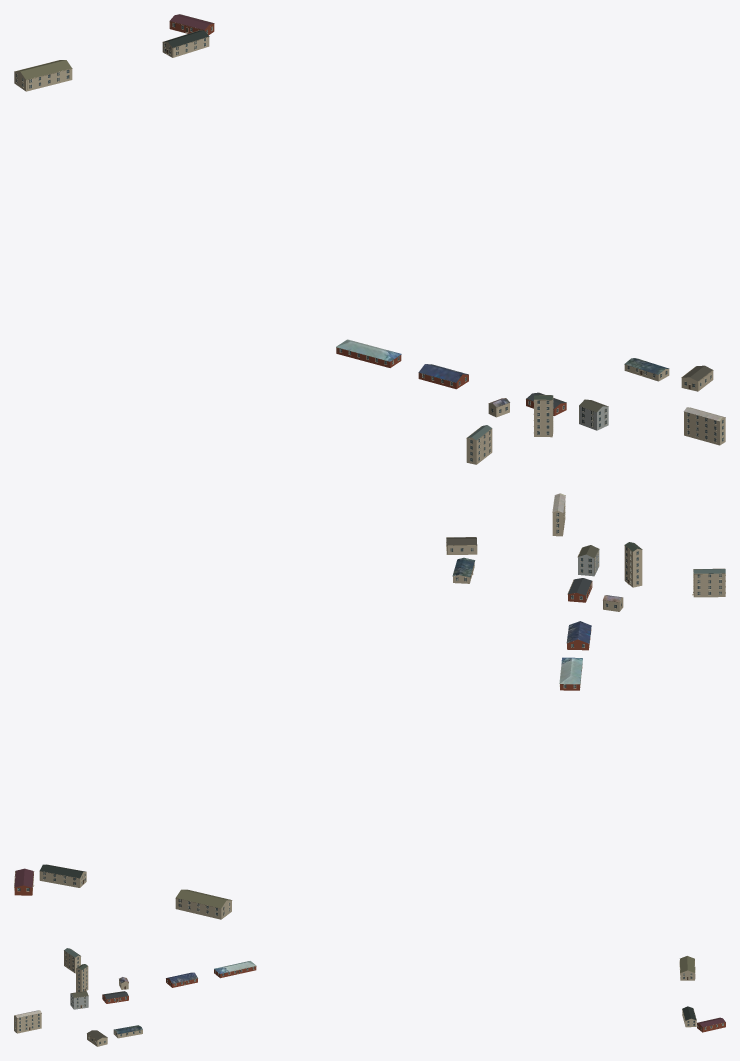
3 renders of one model, top to bottom at view 1: azimuth 30°, elevation 25°; view 2: azimuth 150°, elevation 25°; view 3: azimuth 270°, elevation 25°, orthographic. The views are drawn at different scales.
Visible parts, largest first — view 1: -1_12_608383942_0, -1_12_608383943_1, -1_12_608383945_3; view 2: -1_12_608383942_0, -1_12_608383943_1, -1_12_608383945_3; view 3: -1_12_608383942_0, -1_12_608383943_1, -1_12_608383945_3, -1_12_608383944_2.
Boxes of the visible parts, x1,y1,x2,y2 form: -1_12_608383942_0: (14,14,725,464); -1_12_608383943_1: (336,339,725,421); -1_12_608383945_3: (169,21,566,415); -1_12_608383942_0: (14,500,725,919); -1_12_608383943_1: (452,493,622,684); -1_12_608383945_3: (14,581,592,895); -1_12_608383942_0: (14,948,725,1046); -1_12_608383943_1: (14,961,256,1034); -1_12_608383945_3: (102,966,725,1032); -1_12_608383944_2: (70,993,88,1009).
Size of the model in its own units: 141 by 20.82 by 506.
13 materials, 1 textured.
